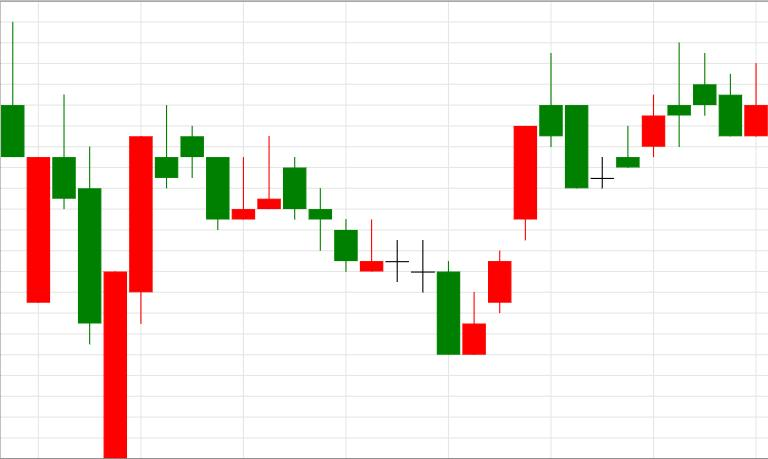shooting_star_fall: (438, 54, 563, 356)
three_white_soldiers_rise: (282, 126, 537, 356)
